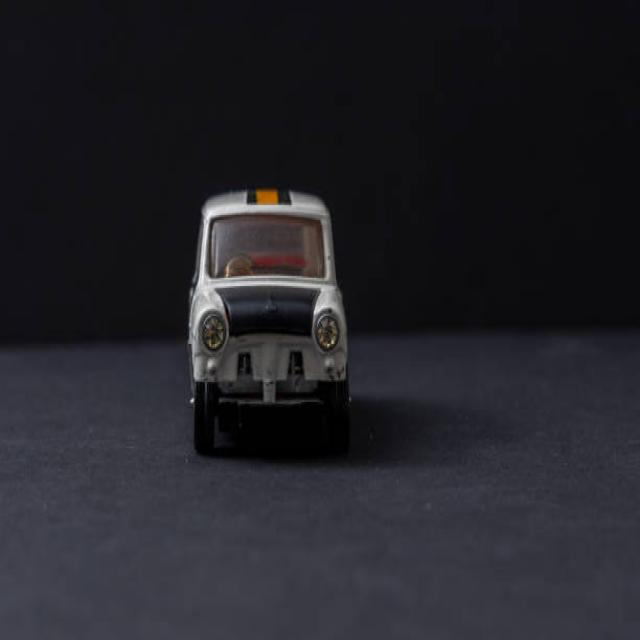Car: (185, 186, 351, 457)
